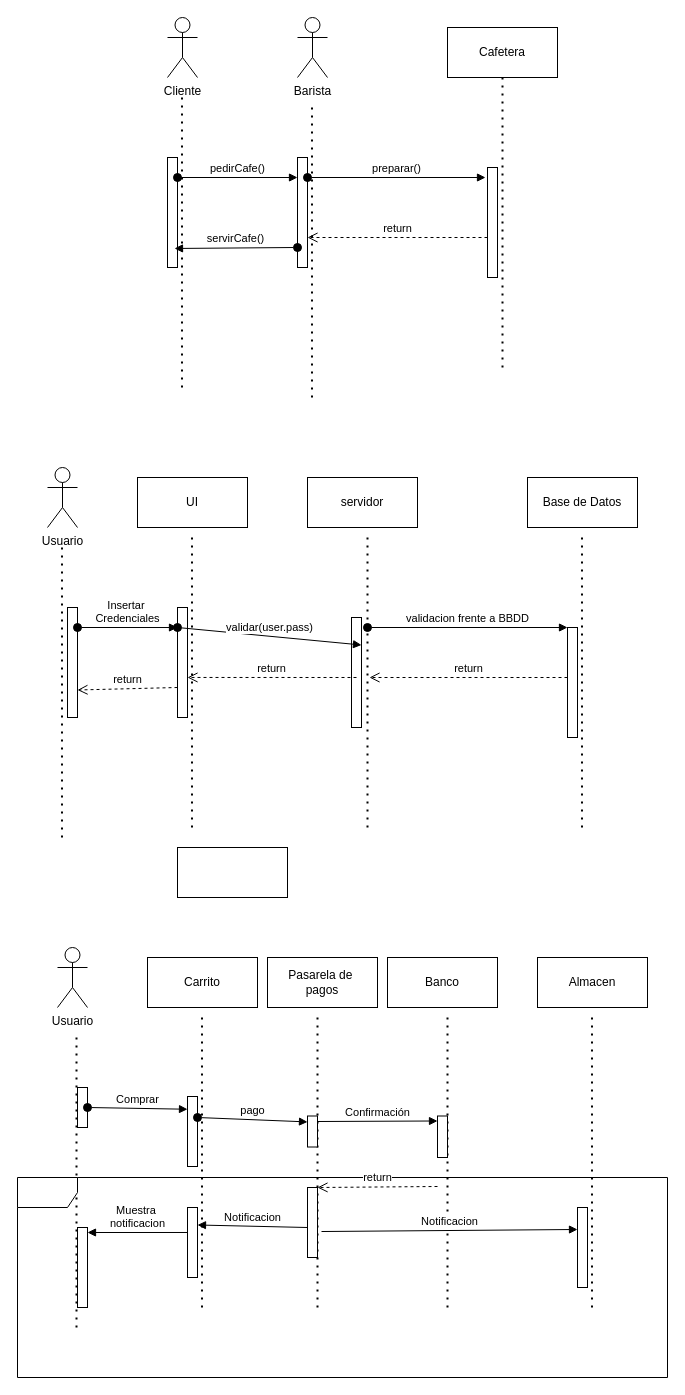
Image size: 685x1395. Some labels were removed from this diagram. The shapes that lost their labels are listed below. From the top down, each one's centre as x and y in pixels, then its label:
(232,872): Falta el 3
(342,1277): Paralelo
